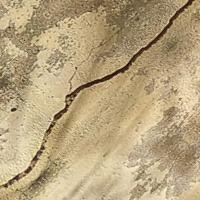crack: (0, 0, 190, 184)
